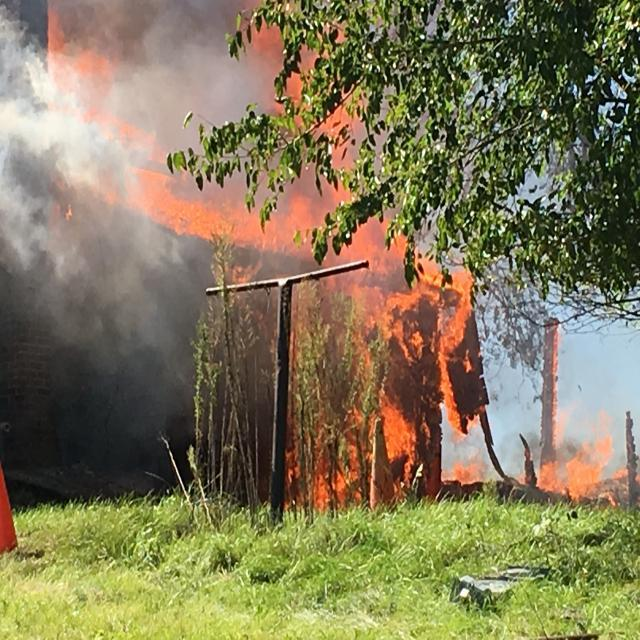Fire: (40, 0, 445, 292), (277, 243, 498, 516), (512, 312, 636, 502)
Smoke: (0, 0, 248, 423)
